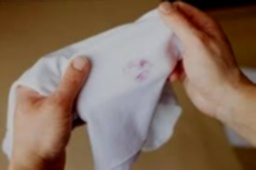lipstick: (120, 56, 151, 83)
